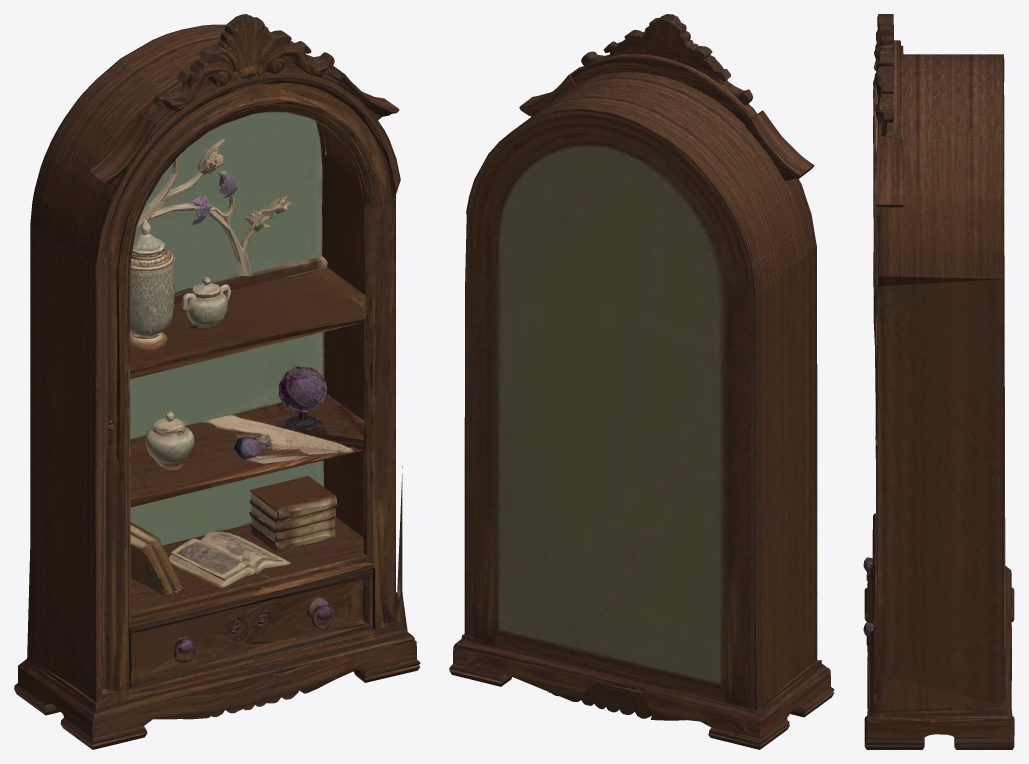
File: shelf.glb
3 views of the same model, side by side, from view 1: azimuth 30°, elevation 25°; view 2: azimuth 150°, elevation 25°; view 3: azimuth 270°, elevation 25° (orthographic). The views are drawn at different scales.
Bounding box in the file's own units: 0.9553 × 1.9 × 0.3958.
Materials: 1 (1 with a texture image).
